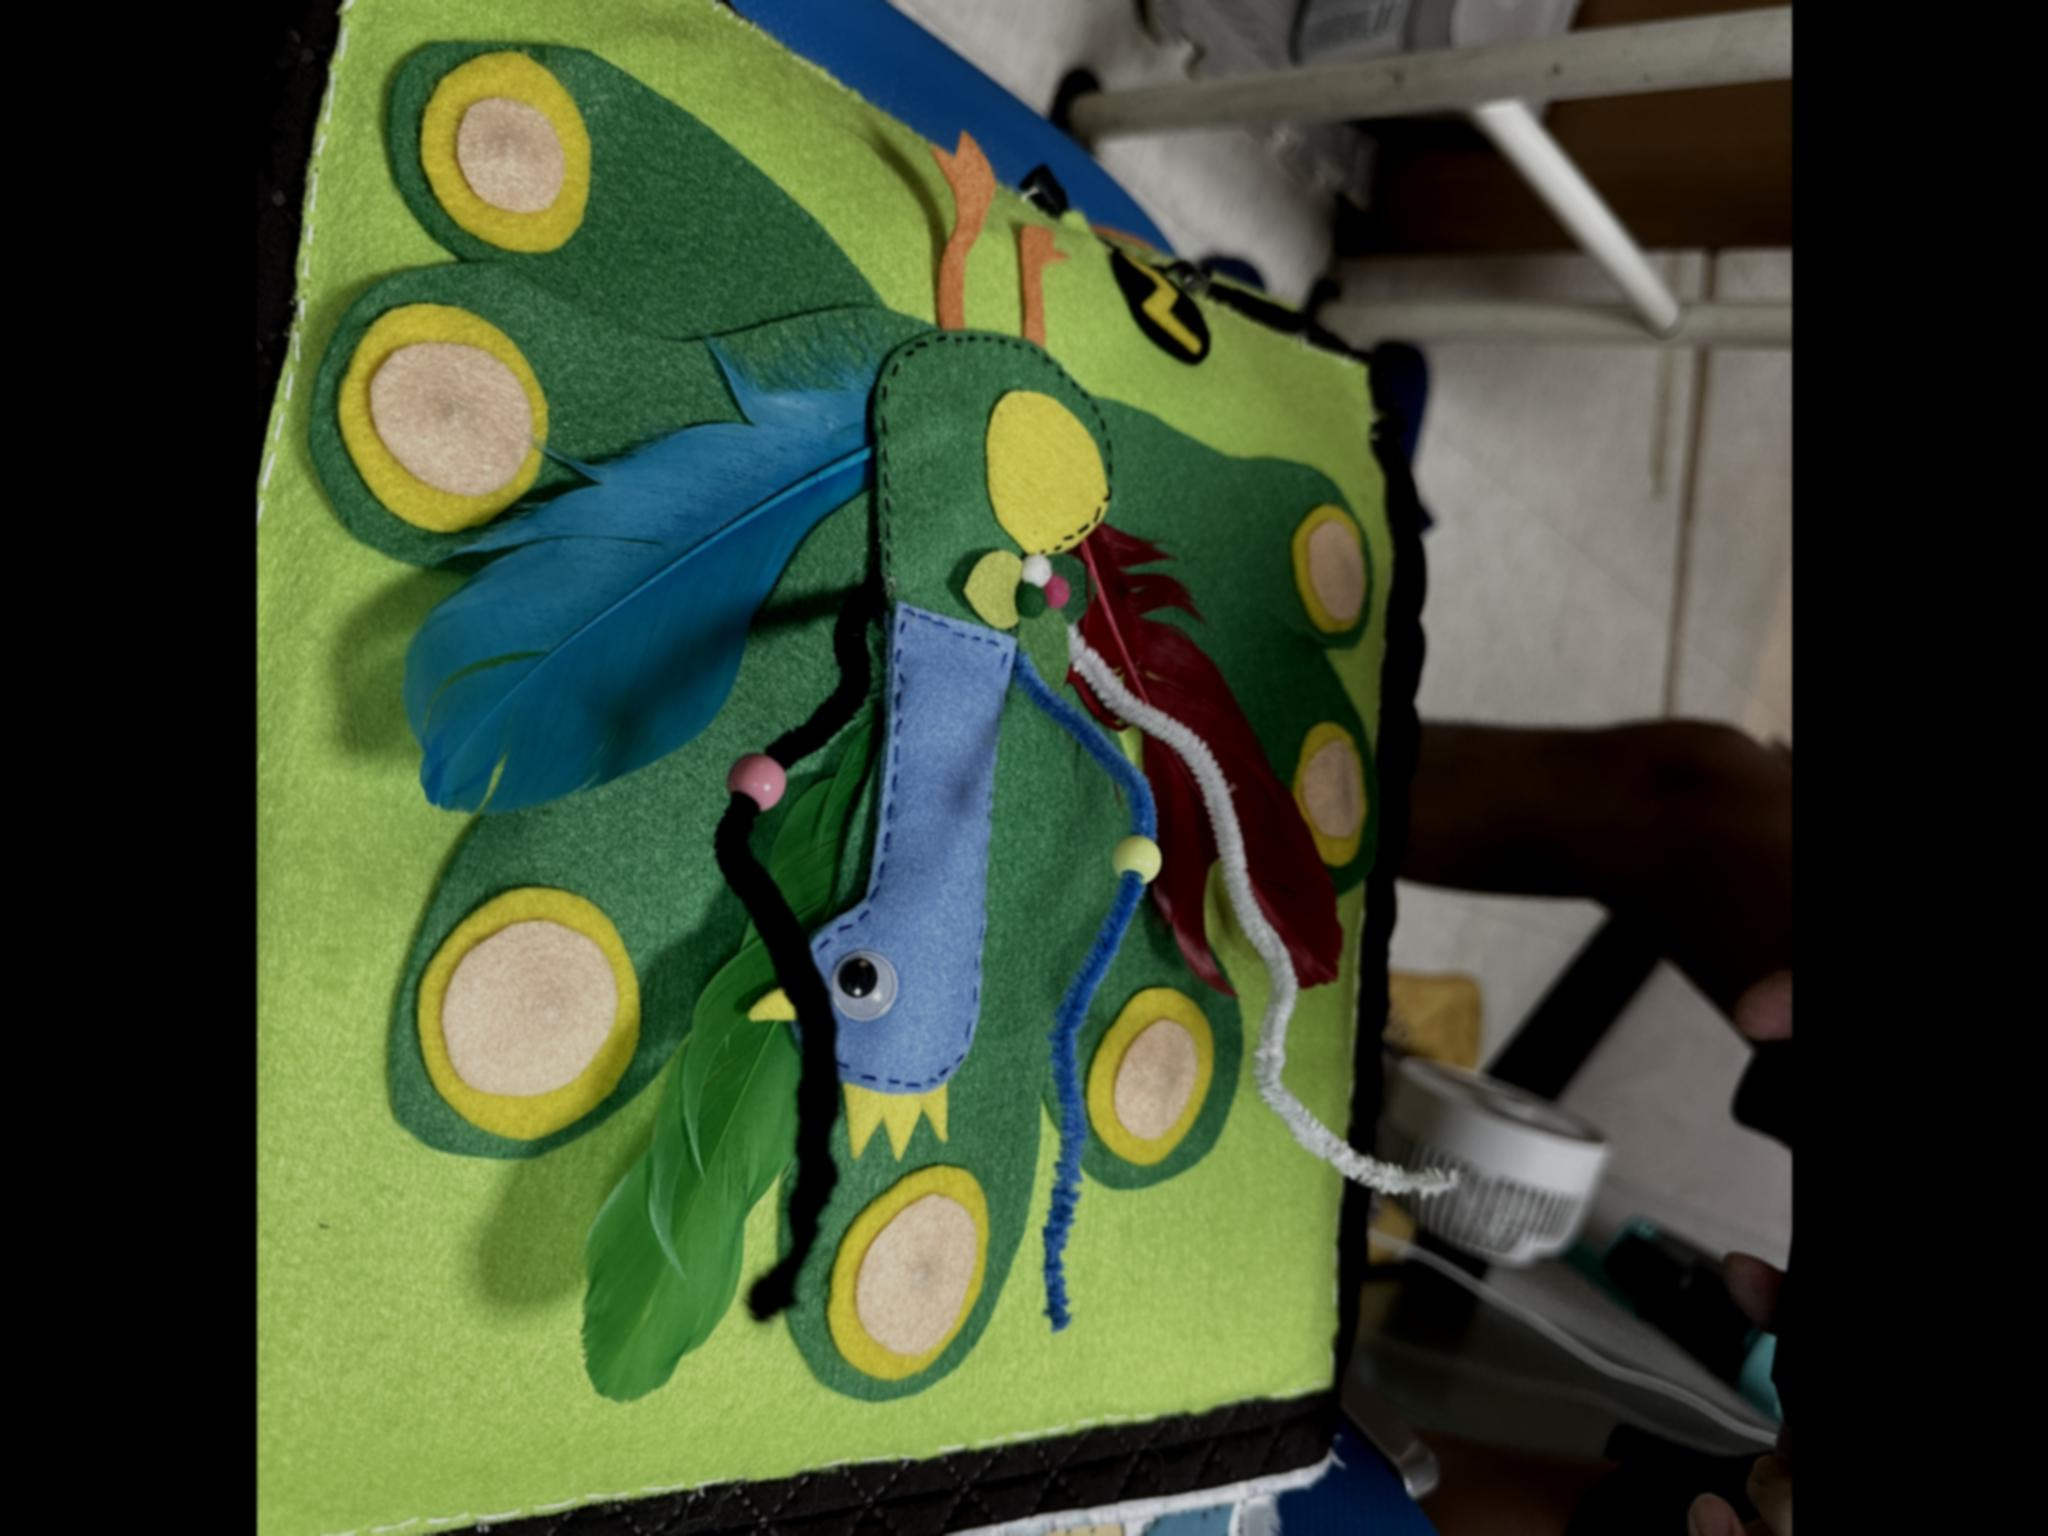bead: (713, 739, 809, 821), (1090, 826, 1190, 888)
